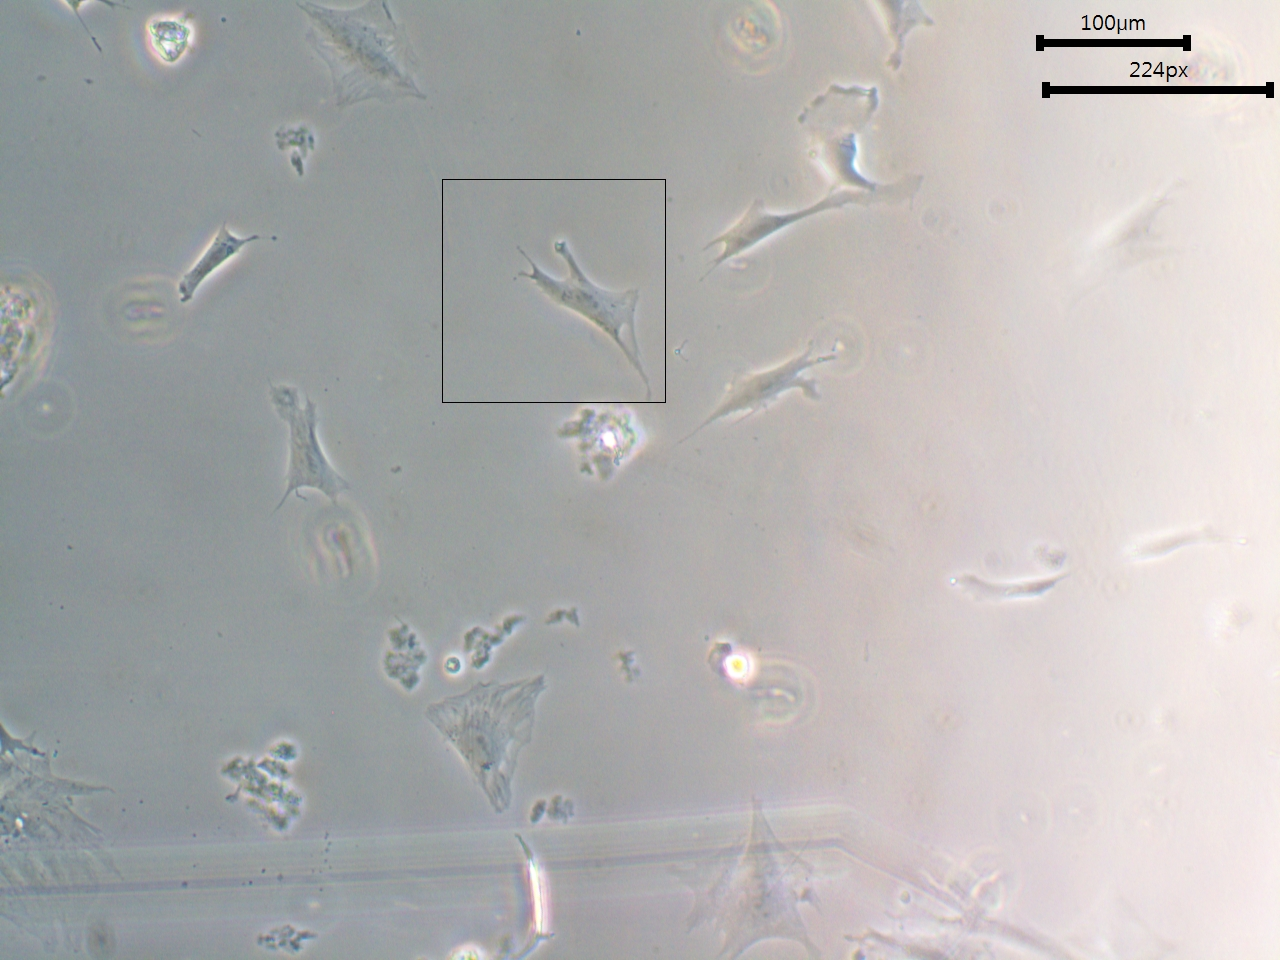dividing: (293, 1, 434, 113)
medium-polygonal: (677, 346, 842, 430), (265, 380, 356, 507)
medium-spread: (422, 673, 555, 816)
small-polygonal: (699, 194, 846, 278), (177, 221, 273, 316)
